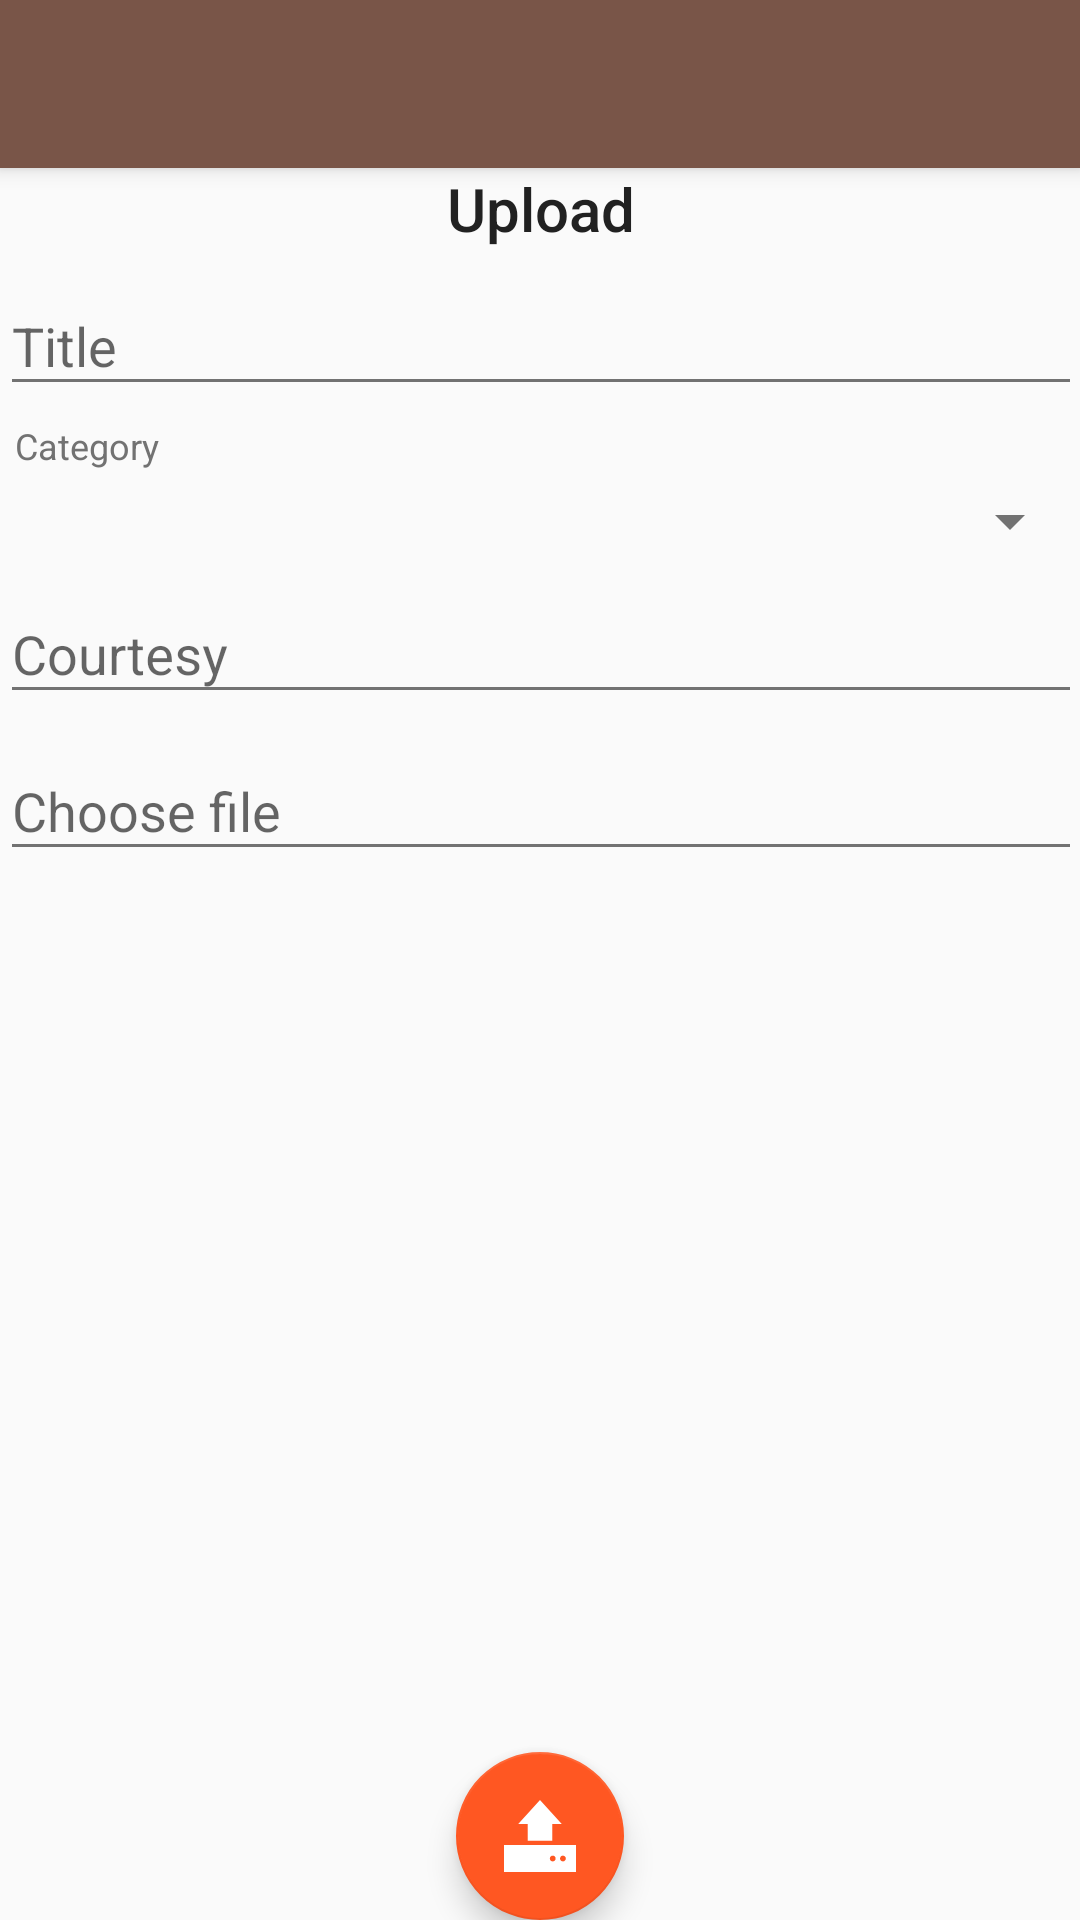

Named icons in this screenshot (1080px×1920px) and their centers, (x=x, y=y):
upload: (x=540, y=1836)
